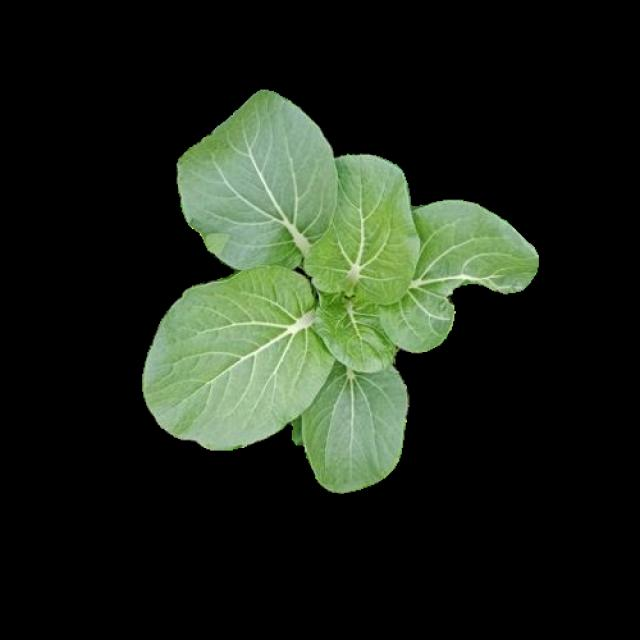not-mature: (150, 93, 536, 489)
unhealthy: (370, 202, 536, 348)
